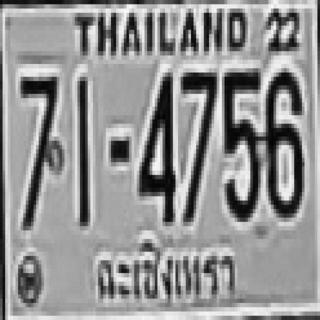N01: (75, 75, 88, 224)
N04: (137, 70, 173, 220)
N05: (222, 68, 258, 218)
N06: (263, 68, 302, 213)
N07: (18, 73, 57, 226), (179, 68, 216, 222)
P07: (90, 235, 240, 317)
